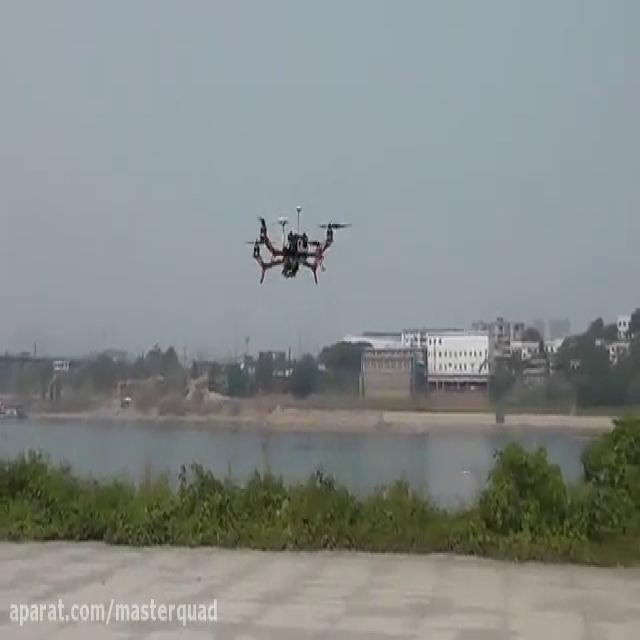drone: (237, 197, 355, 290)
